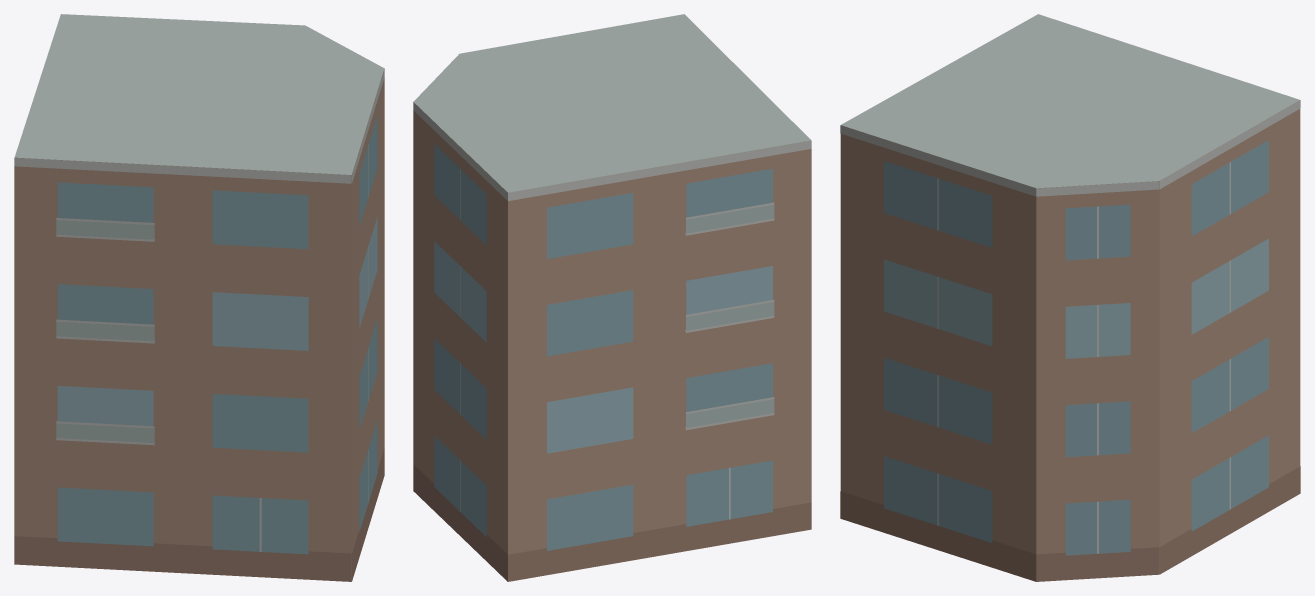
Rendered from survey-upis-32986996.glb.
3 renders of one model, left to right at view 1: azimuth 30°, elevation 25°; view 2: azimuth 150°, elevation 25°; view 3: azimuth 270°, elevation 25°, orthographic. The views are drawn at different scales.
Parts seen in each view (by area): view 1: survey-upis-32986996.tmp; view 2: survey-upis-32986996.tmp; view 3: survey-upis-32986996.tmp.
Boxes of the visible parts, box(x1,y1,x2,y2) form: survey-upis-32986996.tmp: box(14, 14, 384, 581); survey-upis-32986996.tmp: box(413, 14, 811, 581); survey-upis-32986996.tmp: box(840, 14, 1300, 581).
Size of the model in its own units: 10.79 by 11.35 by 12.03.
